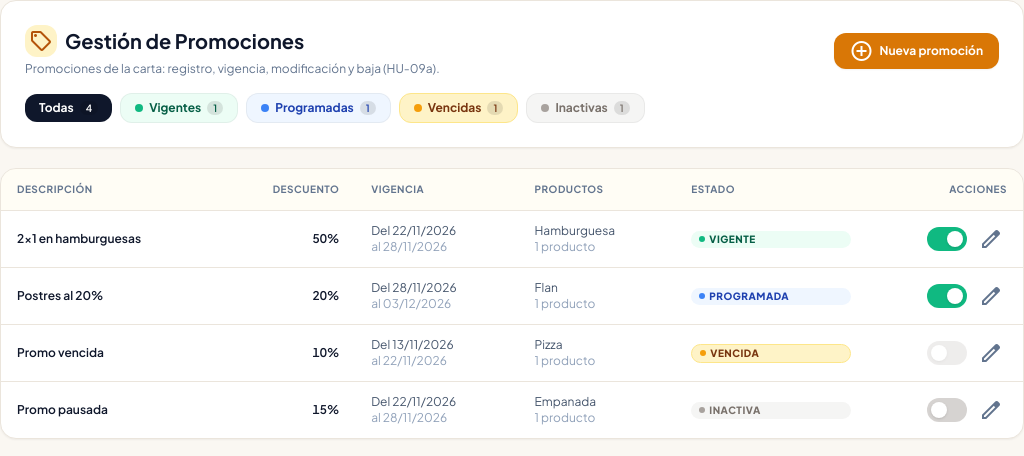
Test case: PromocionesPage › filtra por estado
Expected: the text "2x1 en hamburguesas" is shown, [1,211,218,268]
Click the button "Vigentes 1". click: {"x": 179, "y": 108}
box: [120,93,238,123]
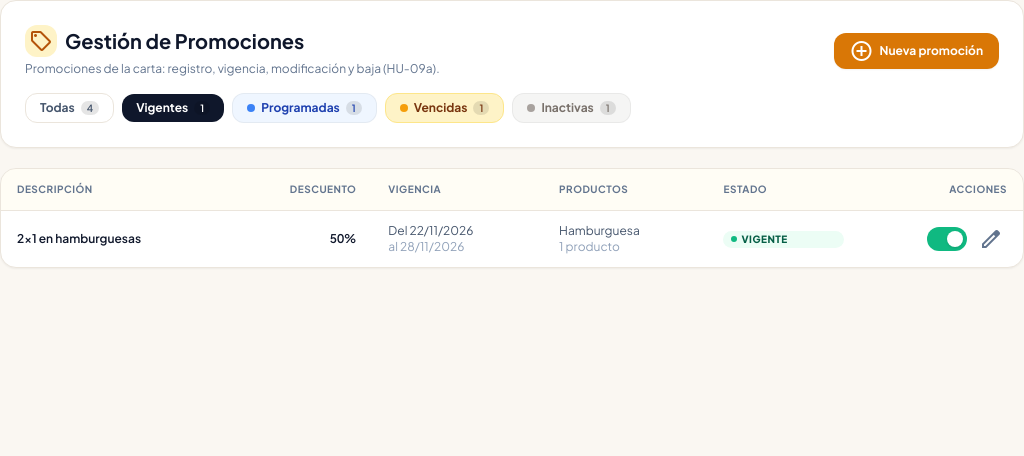
Expected: the text "2x1 en hamburguesas" is shown, [1,211,229,267]
Now the text "Postres al 20%" is gone
Now the text "Promo vencida" is gone
Click the button "Programadas 1". click: {"x": 304, "y": 108}
box: [232,93,377,123]
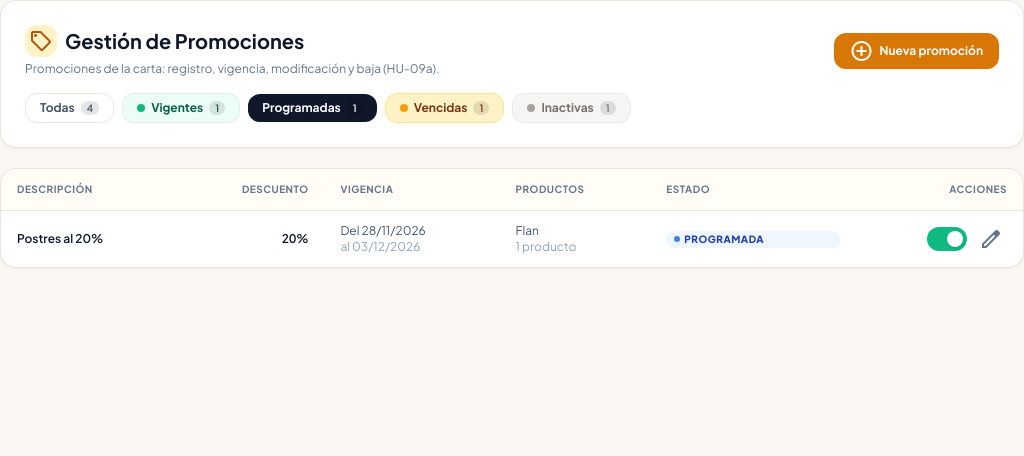
Now the text "Postres al 20%" is shown, box [1,211,178,267]
Now the text "2x1 en hamburguesas" is gone
Click the button "Todas 4". click: {"x": 70, "y": 108}
box: [25,93,114,123]
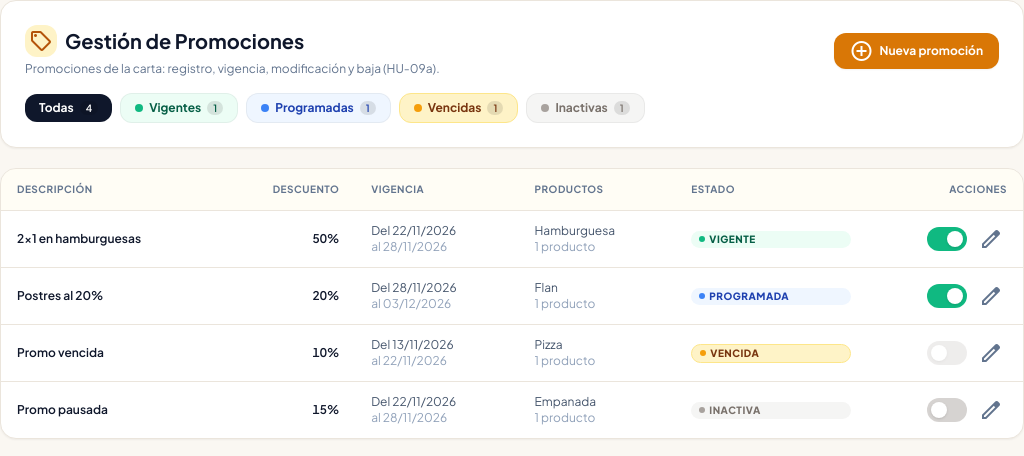
Now the text "Postres al 20%" is shown, box [1,268,218,325]
Now the text "2x1 en hamburguesas" is shown, box [1,211,218,268]
